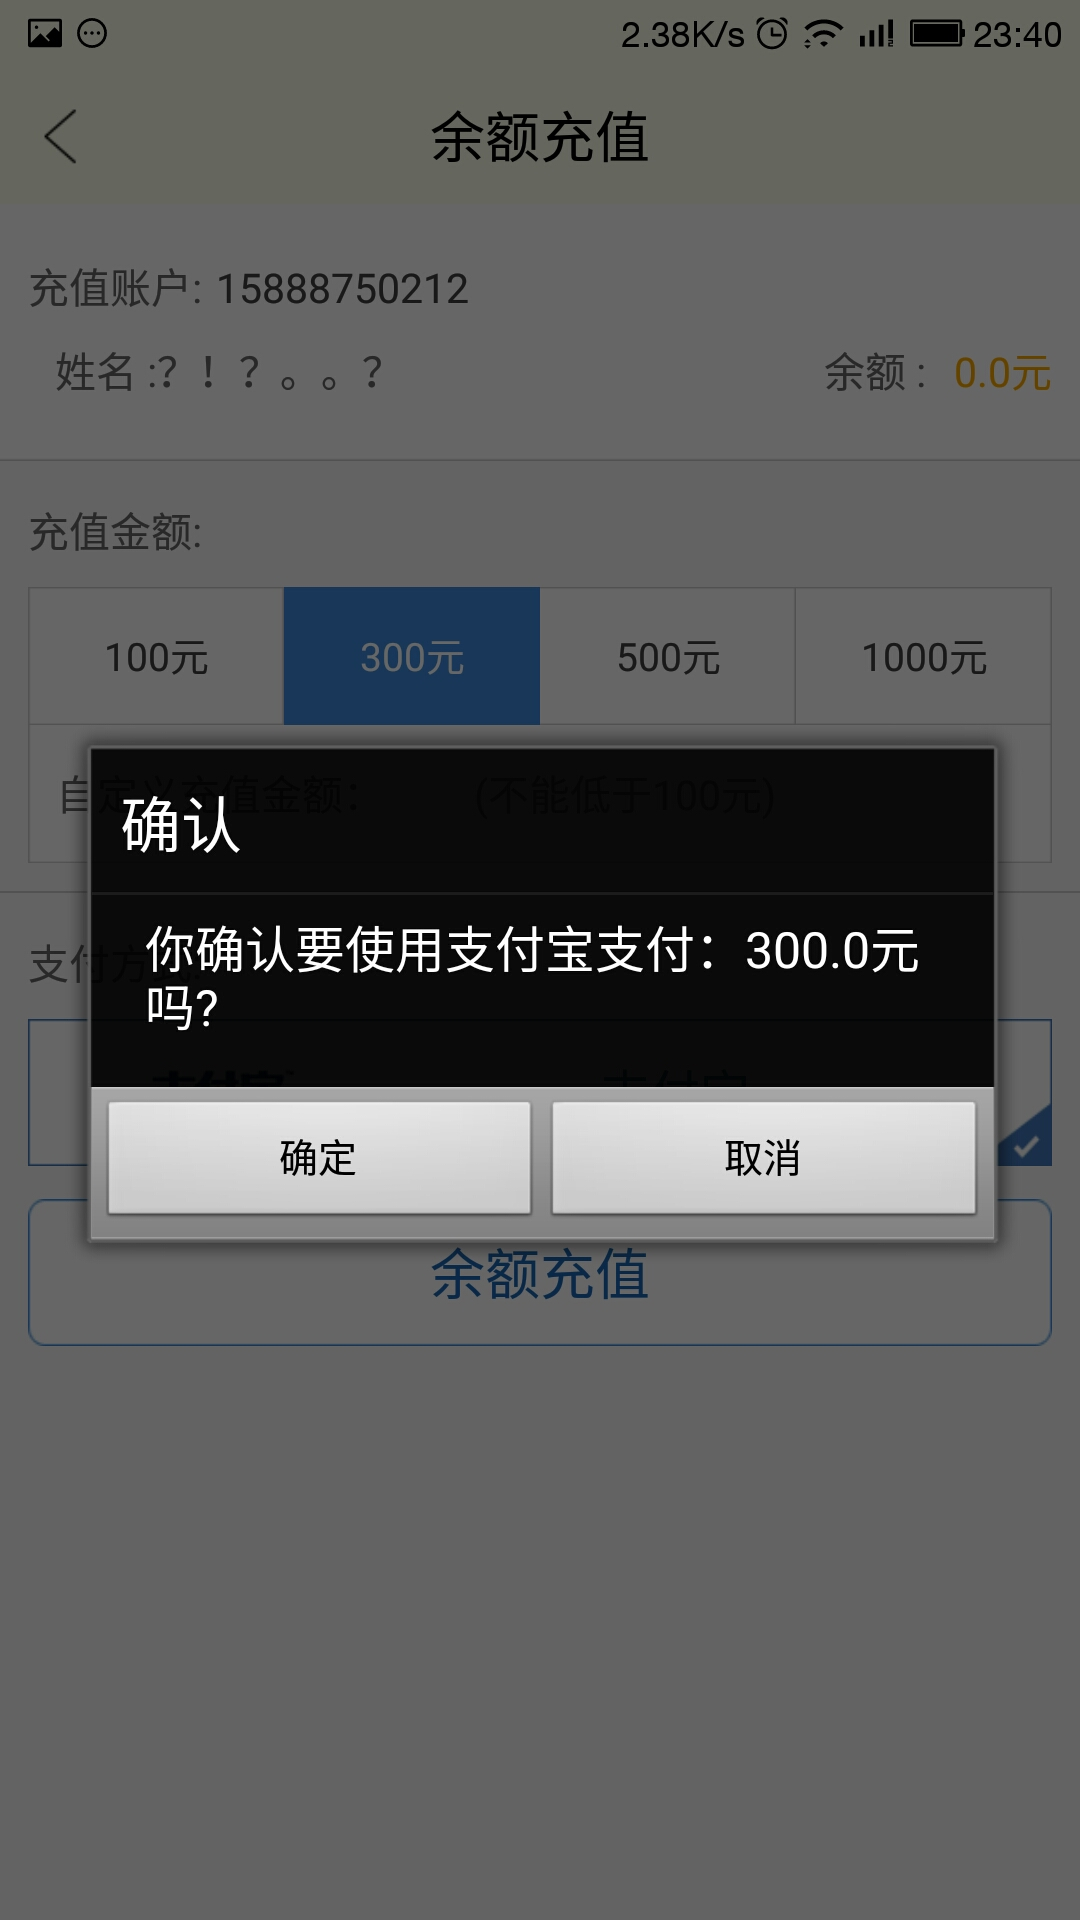alert: (67, 737, 1011, 1261)
textview: (131, 905, 916, 1063)
